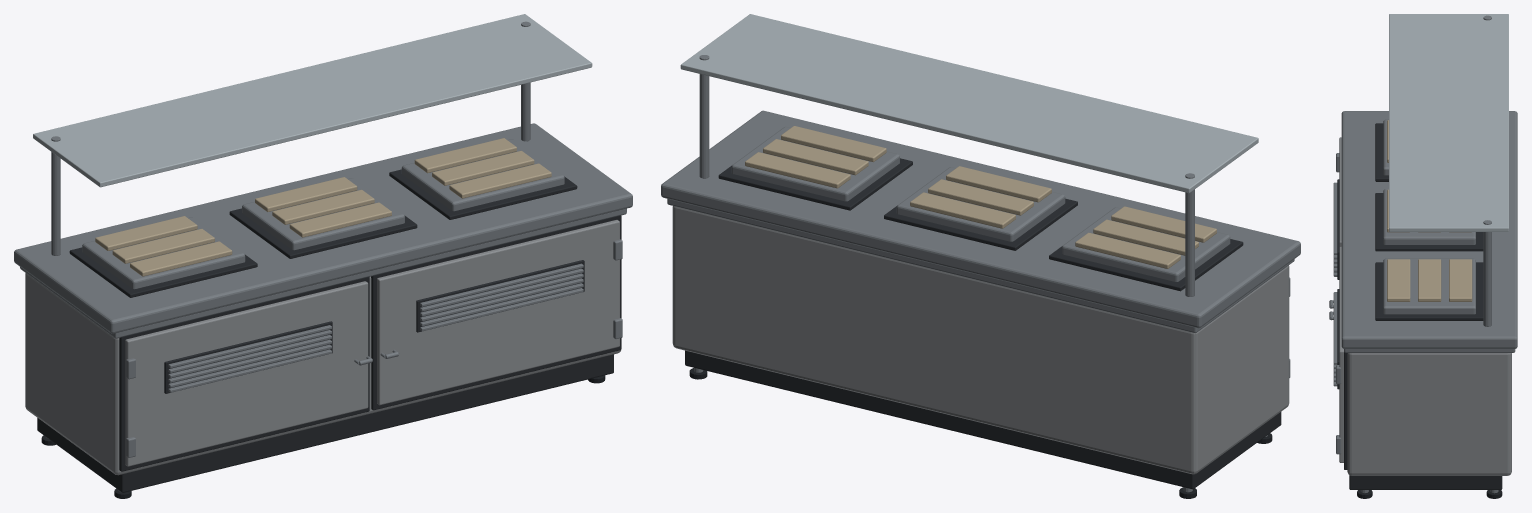
File: BL_ServingCounter.fbx
3 views of the same model, side by side, from view 1: azimuth 30°, elevation 25°; view 2: azimuth 150°, elevation 25°; view 3: azimuth 270°, elevation 25° (orthographic). The views are drawn at different scales.
Parts seen in each view (by area): view 1: BL_ServingCounter_LOD0; view 2: BL_ServingCounter_LOD0; view 3: BL_ServingCounter_LOD0.
Part boxes in pixels (x1=…): BL_ServingCounter_LOD0: x1=14, y1=14, x2=632, y2=498; BL_ServingCounter_LOD0: x1=661, y1=14, x2=1300, y2=498; BL_ServingCounter_LOD0: x1=1329, y1=14, x2=1517, y2=498.
Size of what is drawn, in the model's own units: 278 by 156 by 97.37.
